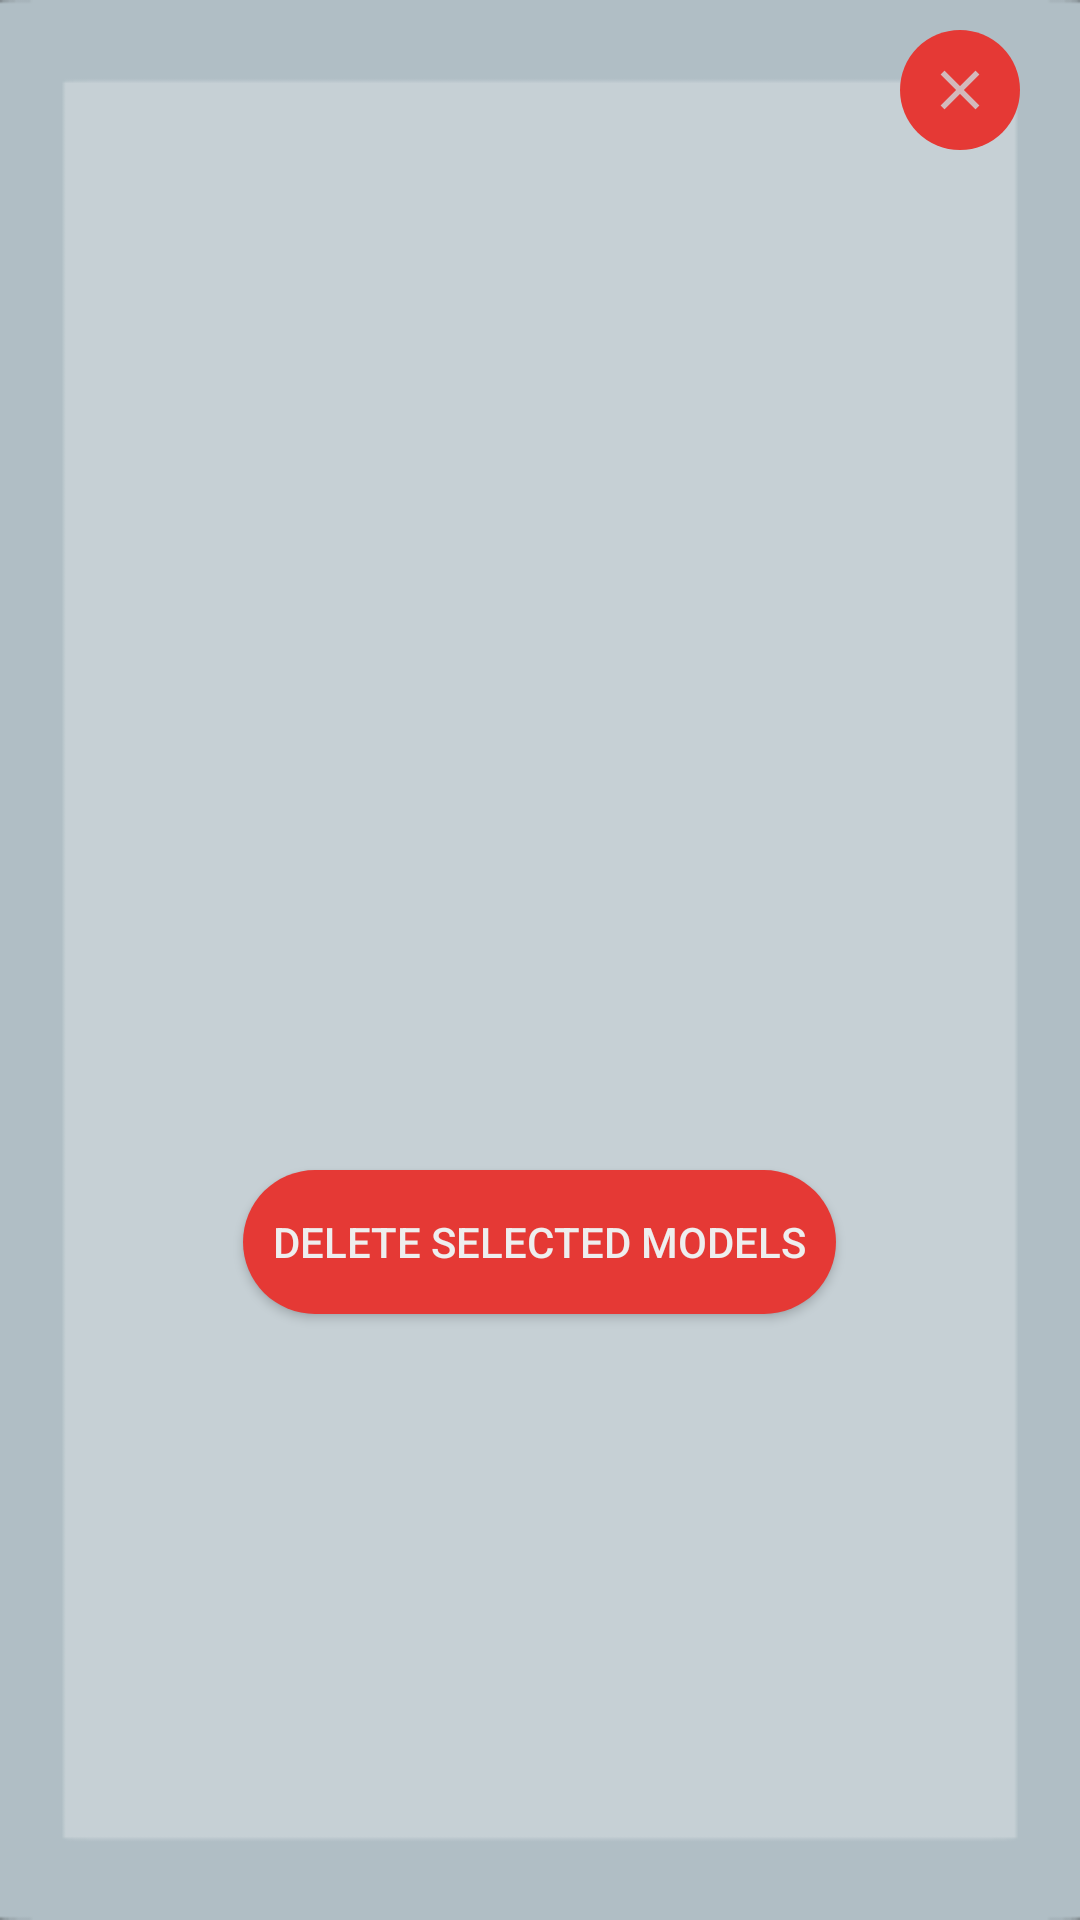

Named icons in this screenshot (1080*1920) and their bounding boxes, BBox(x1, y1, x2, y2):
Close: BBox(900, 30, 1020, 150)
